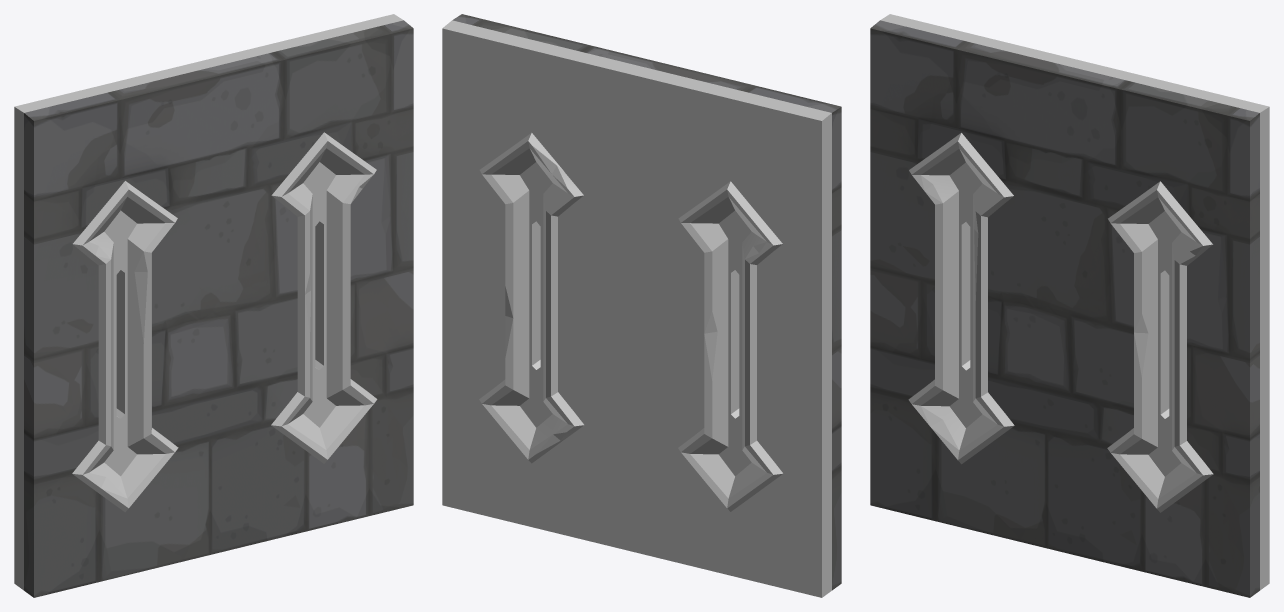
File: SM_Bld_Wall_L_02.fbx
3 renders of one model, left to right at view 1: azimuth 30°, elevation 25°; view 2: azimuth 150°, elevation 25°; view 3: azimuth 330°, elevation 25°, orthographic.
Parts seen in each view (by area): view 1: SM_Bld_Wall_L_02; view 2: SM_Bld_Wall_L_02; view 3: SM_Bld_Wall_L_02.
Part boxes in pixels (box(x1,y1,x2,y2)): SM_Bld_Wall_L_02: box(14, 14, 413, 597); SM_Bld_Wall_L_02: box(442, 14, 841, 597); SM_Bld_Wall_L_02: box(870, 14, 1269, 597).
Bounding box in the file's own units: 500 × 601 × 61.28.
